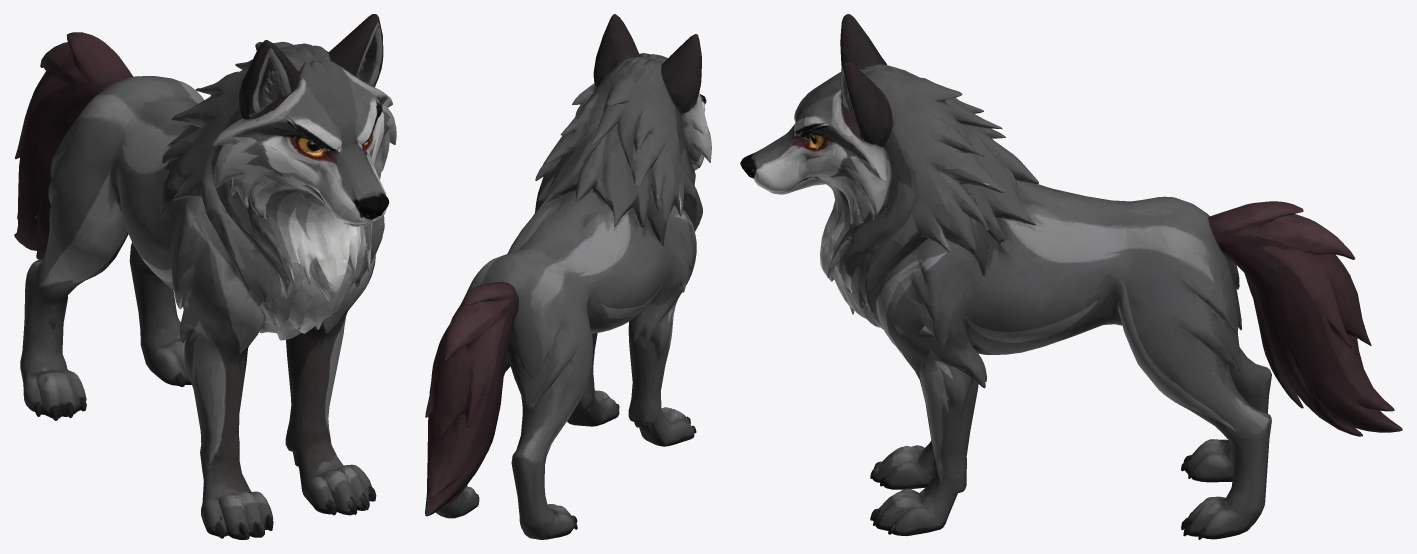
Rendered from upm_mu5vzs08z6.glb.
3 views of the same model, side by side, from view 1: azimuth 30°, elevation 25°; view 2: azimuth 150°, elevation 25°; view 3: azimuth 270°, elevation 25° (orthographic). The views are drawn at different scales.
Size of the model in its own units: 0.5849 by 1.47 by 1.9.
Materials: 1 (1 with a texture image).
